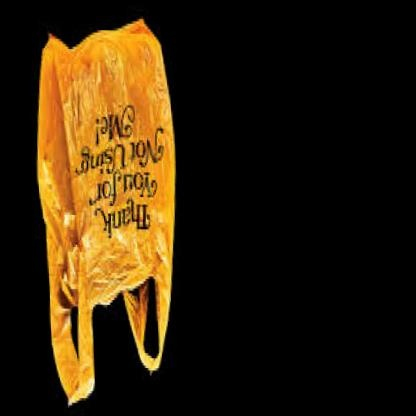trash: (38, 20, 174, 403)
